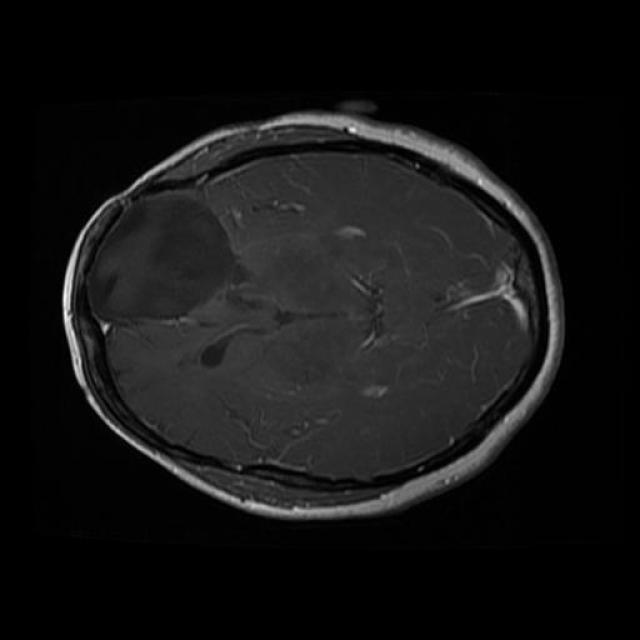Glioma: (88, 191, 238, 320)
